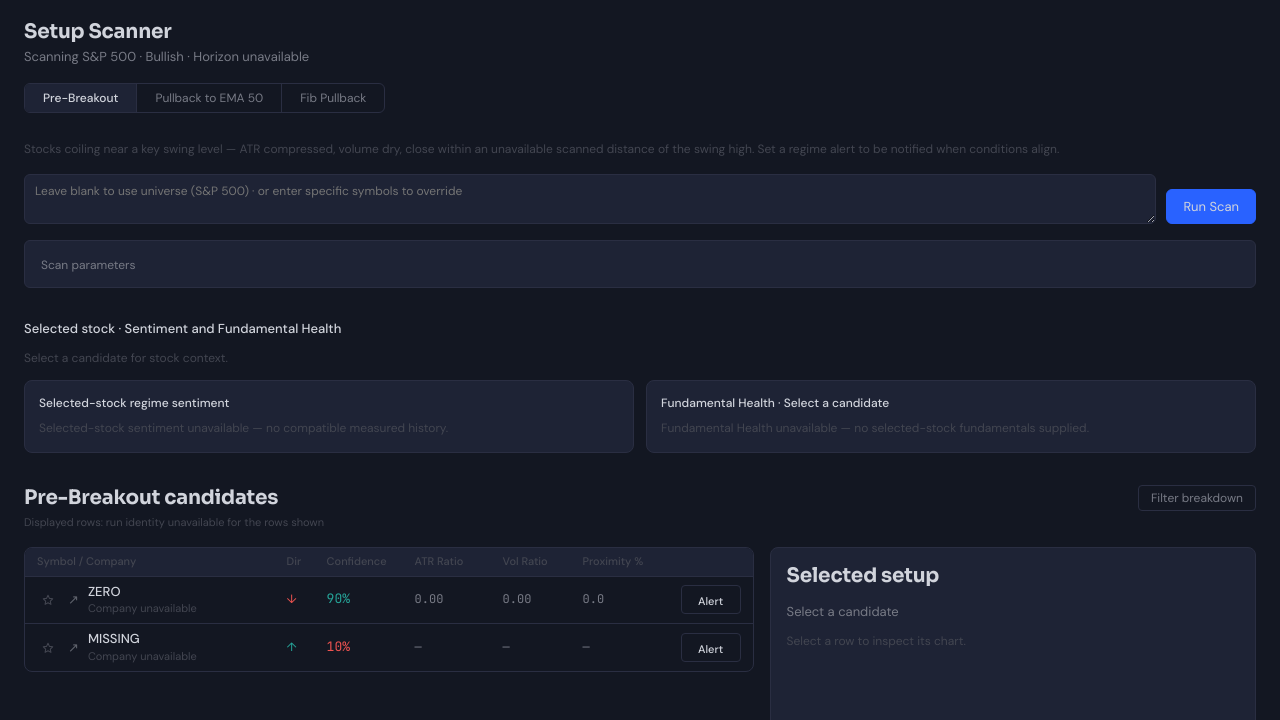
mode tables preserve Pre confidence ordering and source Fib ordering, with zero separate from missing
Expected: the text "0.00" is shown 2 times, [415,591,443,607]; [503,591,531,607]
Expected: the text "—" is shown 3 times, [415,639,422,655]; [503,639,510,655]; [583,639,590,655]
Click the button "Fib Pullback": [333, 98] box [281,84,384,112]
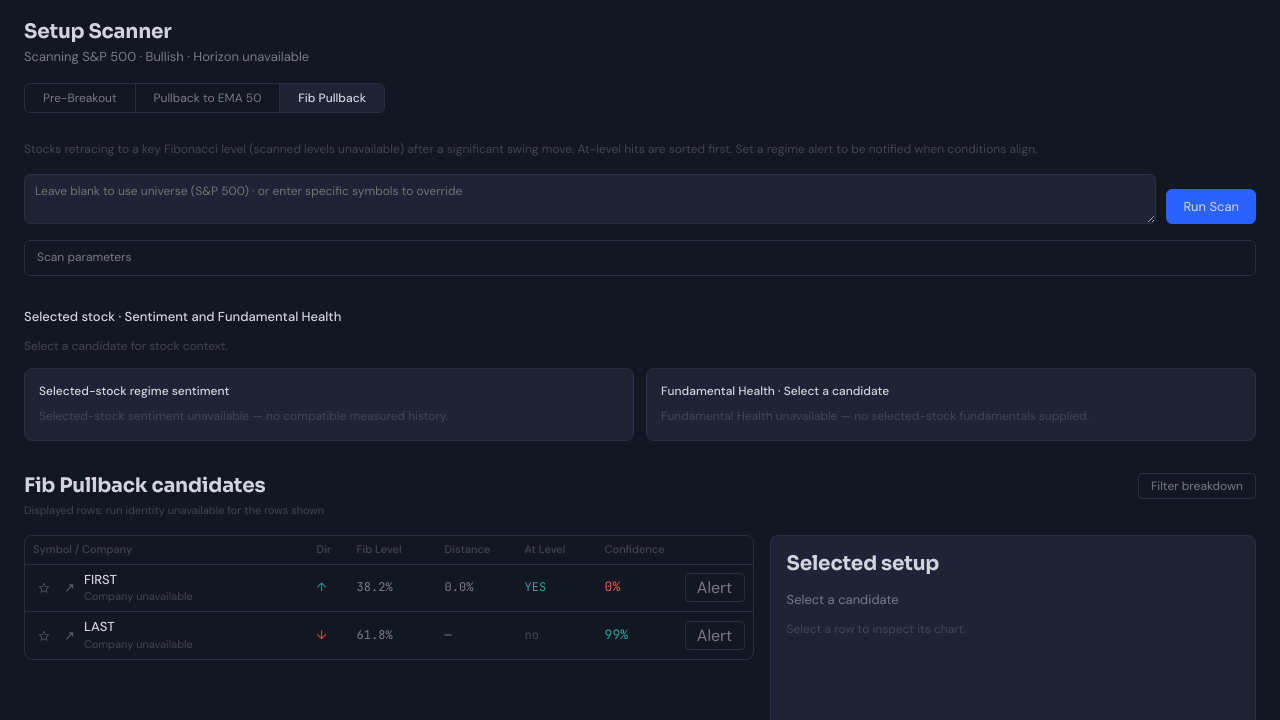
Expected: the text "—" is shown, [445,627,452,643]
Result: the text "0.0%" is shown at [445,579,473,595]
